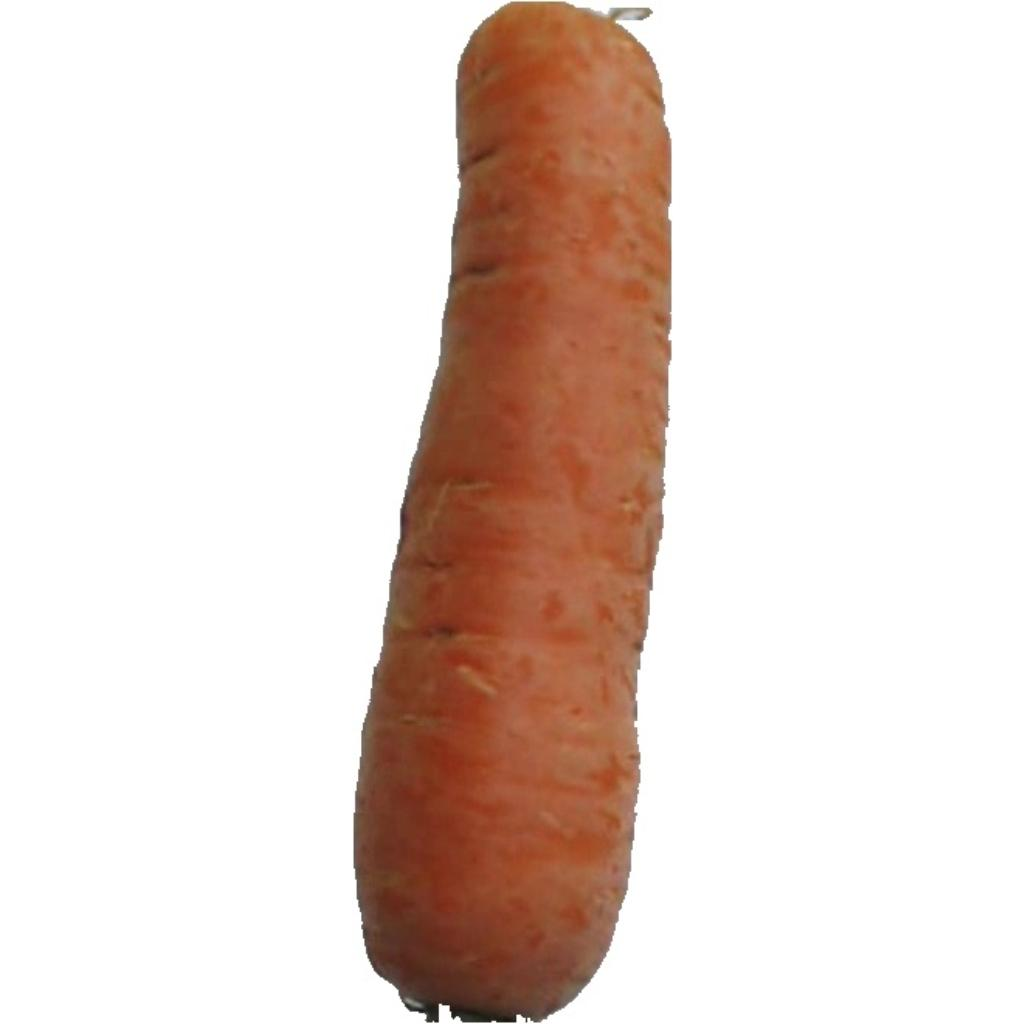carrot: (355, 4, 669, 1020)
